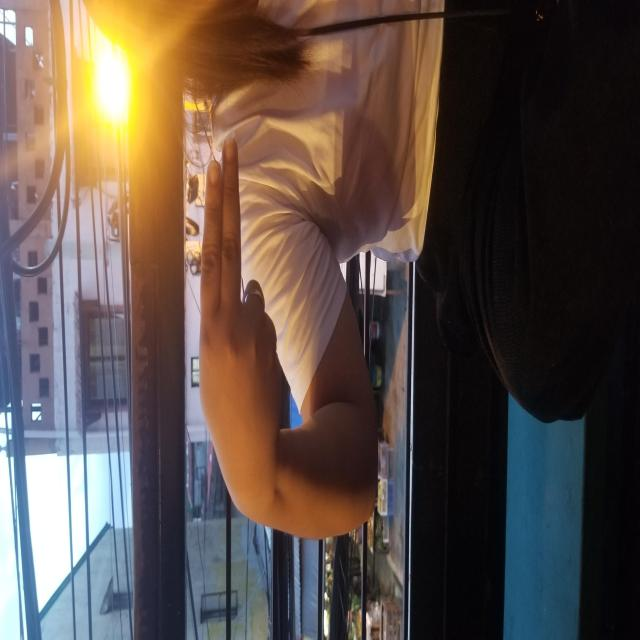H: (126, 197, 502, 280)
